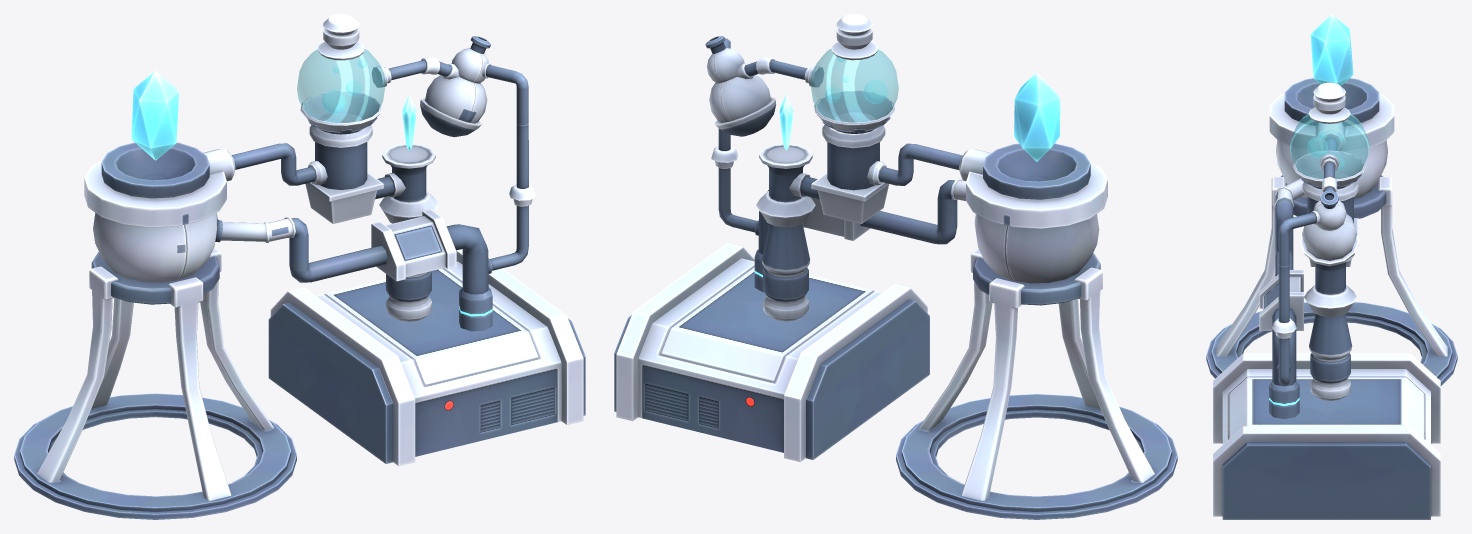
File: obj_lab09.gltf
3 views of the same model, side by side, from view 1: azimuth 30°, elevation 25°; view 2: azimuth 150°, elevation 25°; view 3: azimuth 270°, elevation 25° (orthographic). The views are drawn at different scales.
Visible parts, largest first — view 1: obj_lab09; view 2: obj_lab09; view 3: obj_lab09.
Part boxes in pixels (x1=…): obj_lab09: x1=14, y1=14, x2=585, y2=519; obj_lab09: x1=614, y1=14, x2=1177, y2=519; obj_lab09: x1=1206, y1=14, x2=1457, y2=519.
Size of what is drawn, in the model's own units: 5.31 by 4.1 by 2.65.
5 materials, 5 textured.
